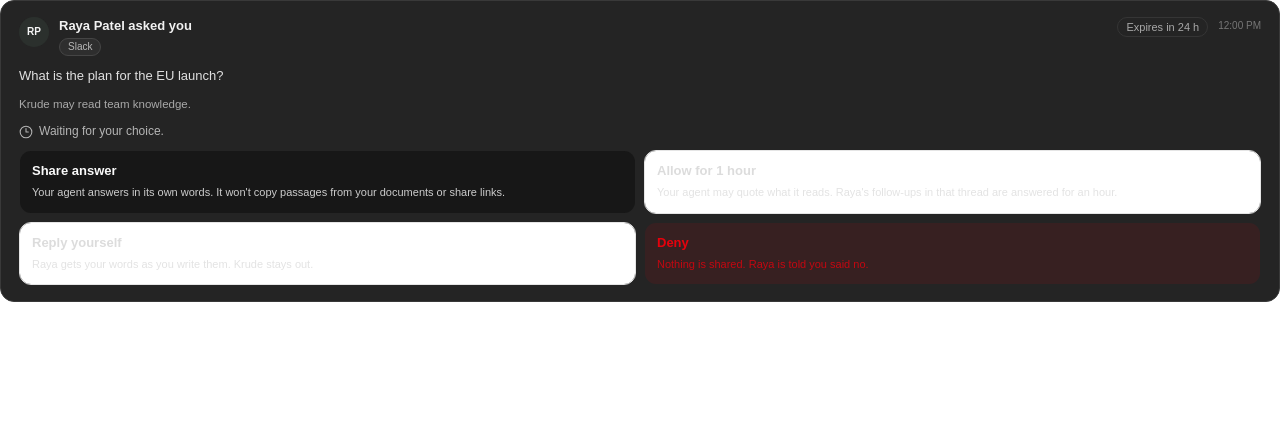
Scenario: Reply yourself, under a request's own choices › sends with Command or Control and Enter, and Enter alone is a new line
This screenshot has width=1280, height=424.
Click the button with aria-label "Reply yourself to Raya's request" at (77, 242), box 19,222 -> 636,285
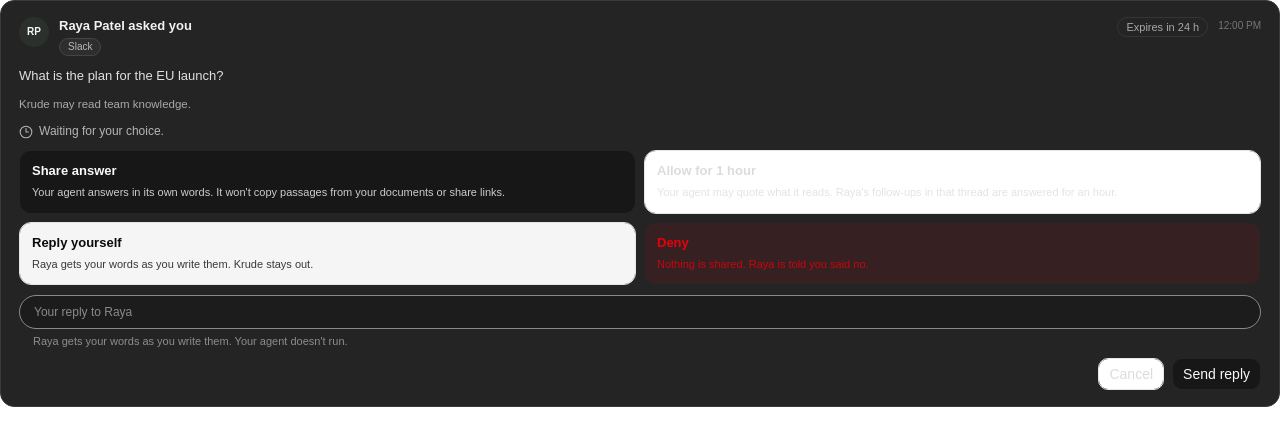
Type "Shipped." into the text box named "Reply yourself to Raya's request" at (640, 312), box 34,299 -> 1246,325
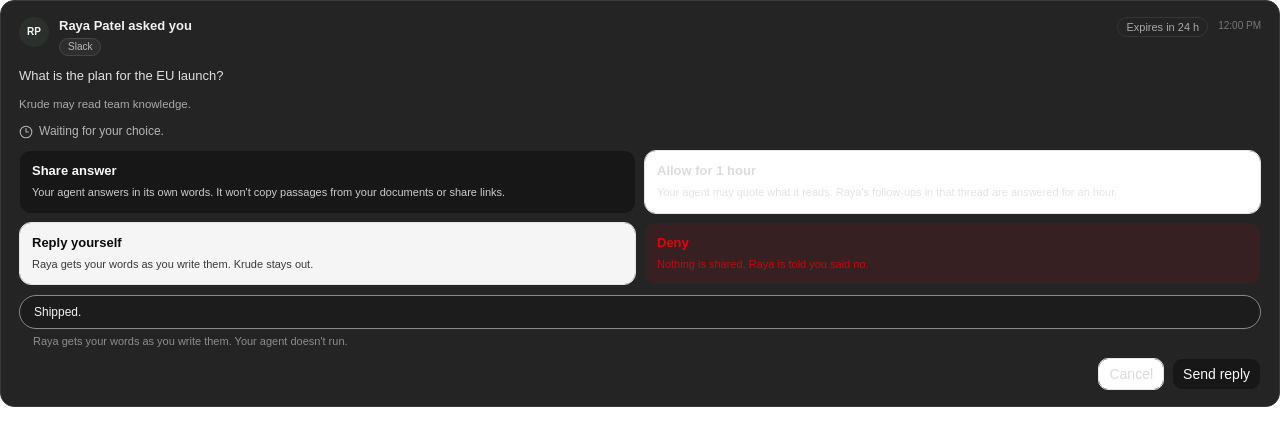
Press Enter in the text box named "Reply yourself to Raya's request", box 34,299 -> 1246,325
Press Enter in the text box named "Reply yourself to Raya's request", box 34,299 -> 1246,325
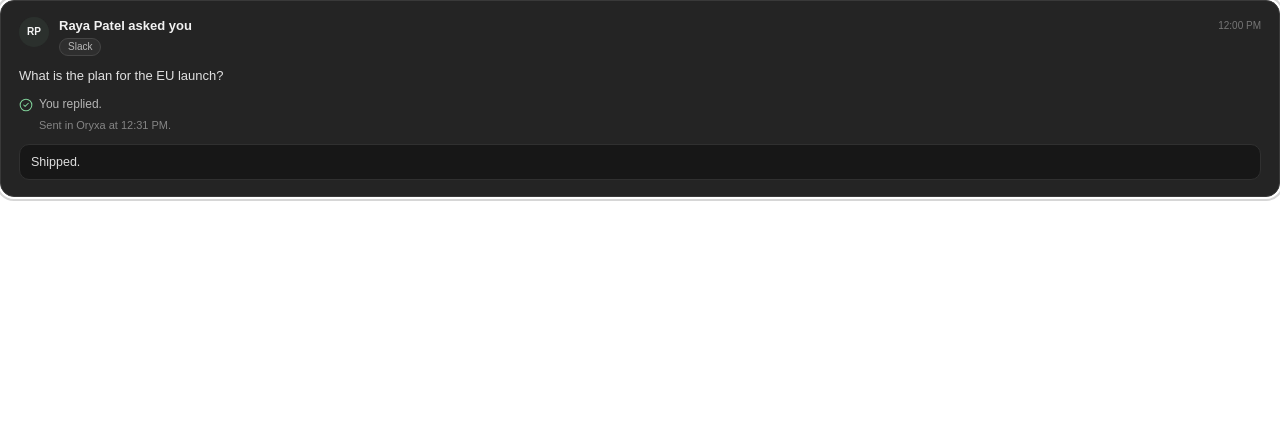
Expected: the text "You replied." is shown, 39,96 -> 102,114
